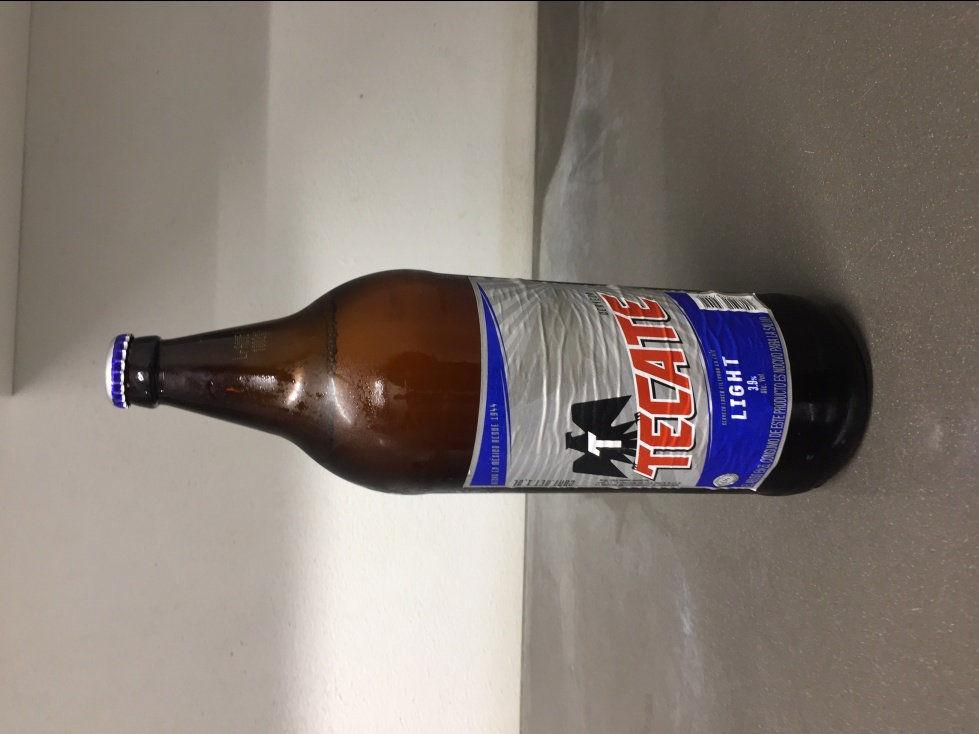tecateC: (104, 265, 873, 497)
